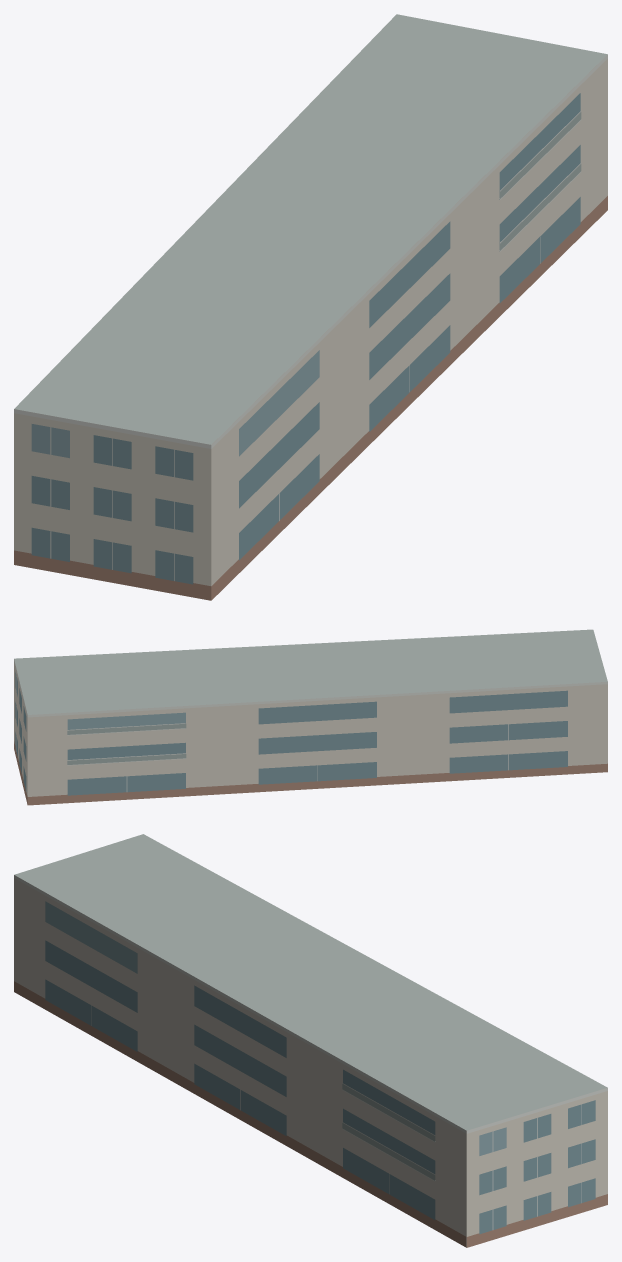
File: survey-upis-32756100.glb
3 renders of one model, top to bottom at view 1: azimuth 30°, elevation 25°; view 2: azimuth 150°, elevation 25°; view 3: azimuth 270°, elevation 25°, orthographic. The views are drawn at different scales.
Parts seen in each view (by area): view 1: survey-upis-32756100.tmp; view 2: survey-upis-32756100.tmp; view 3: survey-upis-32756100.tmp.
Part boxes in pixels (bbox=[...]): survey-upis-32756100.tmp: bbox=[14, 14, 607, 600]; survey-upis-32756100.tmp: bbox=[14, 629, 607, 805]; survey-upis-32756100.tmp: bbox=[14, 834, 607, 1247].
Bounding box in the file's own units: 49.69 × 9.15 × 42.03.
